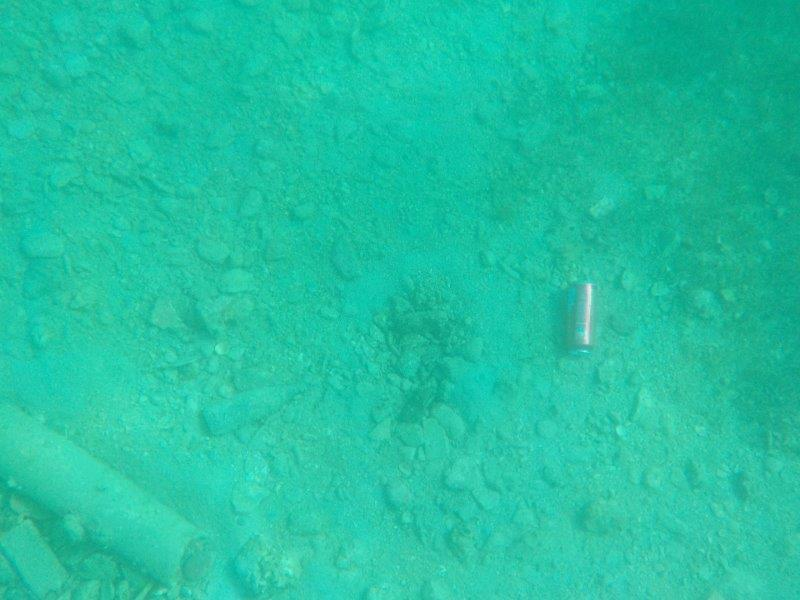bottle: (194, 376, 312, 442)
